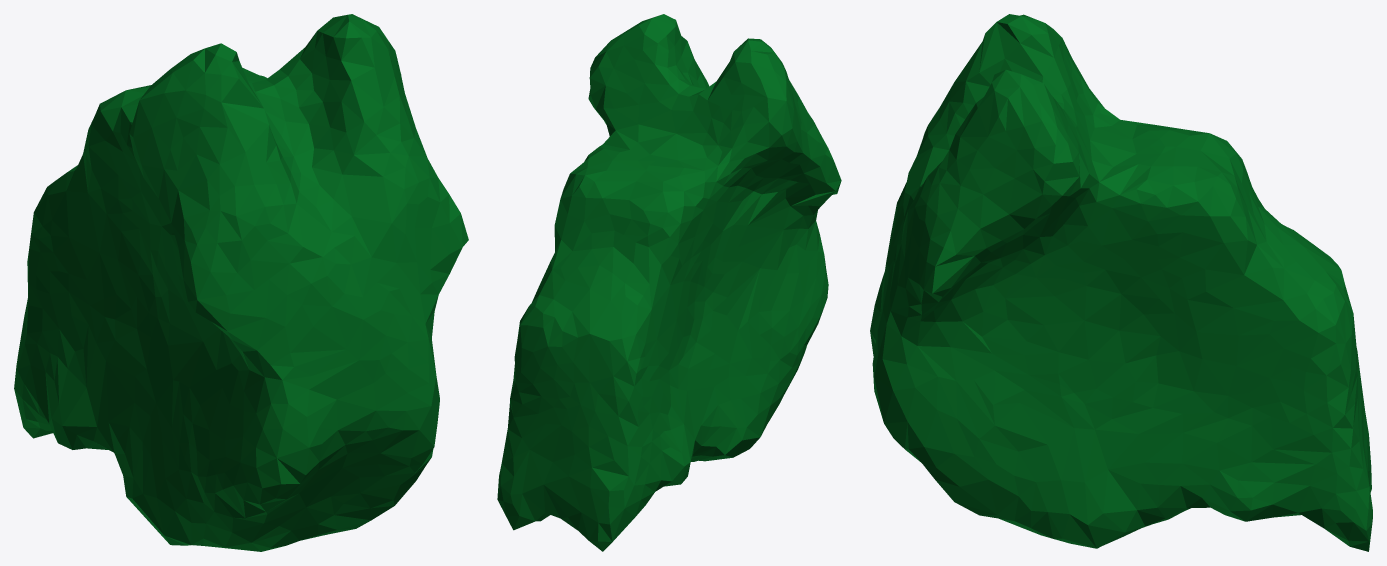
The model's file is 93-PGM.31-area PGM.31 of cortex-('0.0000', '0.4980', '0.1529').obj.
3 views of the same model, side by side, from view 1: azimuth 30°, elevation 25°; view 2: azimuth 150°, elevation 25°; view 3: azimuth 270°, elevation 25° (orthographic). The views are drawn at different scales.
Size of the model in its own units: 52.01 by 97.4 by 91.5.
